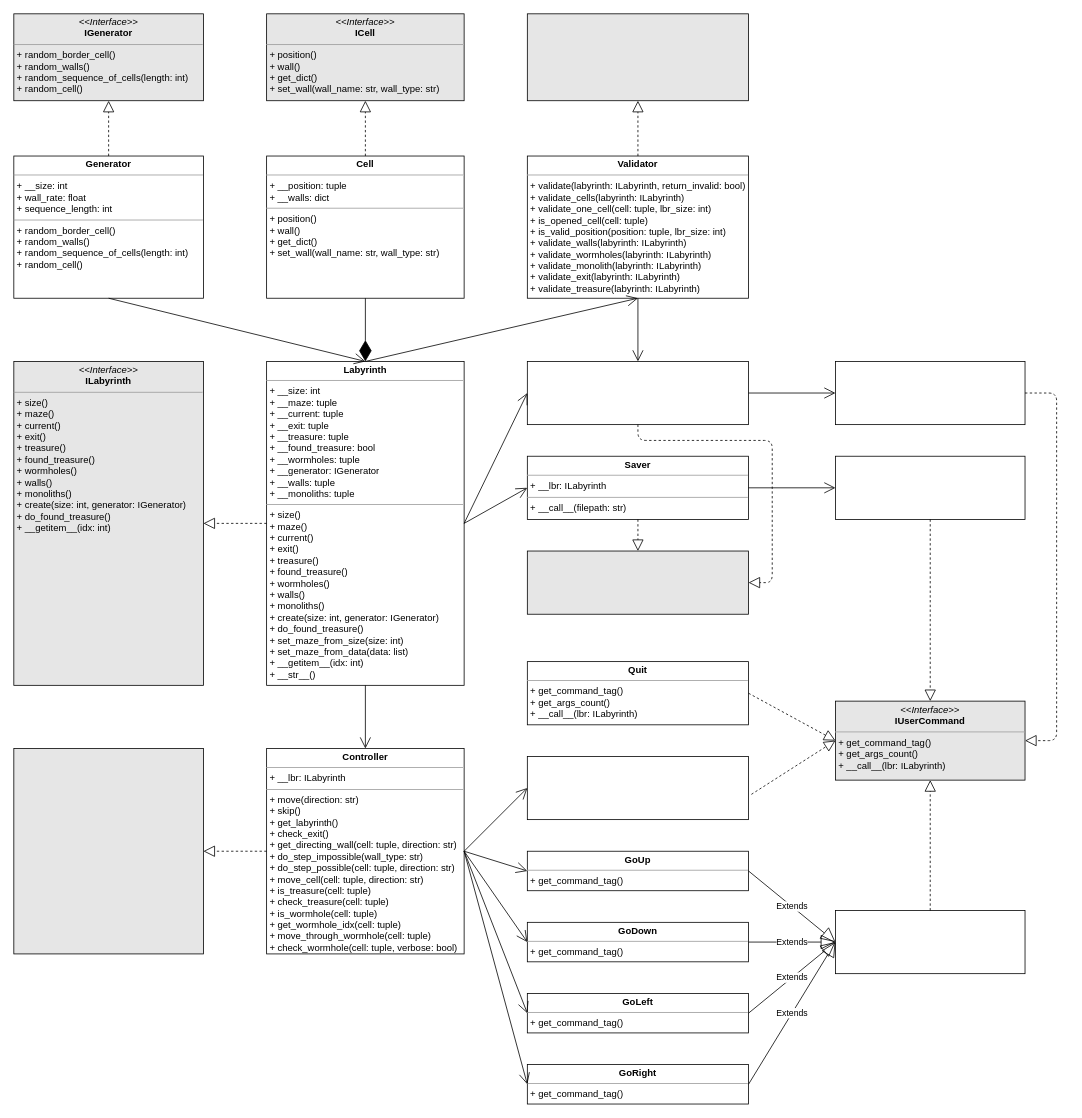
The diagram is 1082 pixels wide and 1118 high, and some of its shapes have lost their labels. Each missing label, with the centre of its shape:
<<Interface>> IController + move(direction: str) + skip() + get_labyrinth(): (108,851)
<<Interface>> IInputOutput + __call__(filepath: str): (638,582)
<<Interface>> IValidator + validate(labyrinth: ILabyrinth, return_invalid: bool): (638,57)
Go + get_command_tag() + get_args_count() + __call__(lbr: ILabyrinth): (930,942)
Load + get_command_tag() + get_args_count() + __call__(lbr: ILabyrinth): (930,393)
Loader + __lbr: ILabyrinth + __call__(filepath: str): (638,393)
Save + get_command_tag() + get_args_count() + __call__(lbr: ILabyrinth): (930,487)
Skip + get_command_tag() + get_args_count() + __call__(lbr: ILabyrinth): (638,788)
